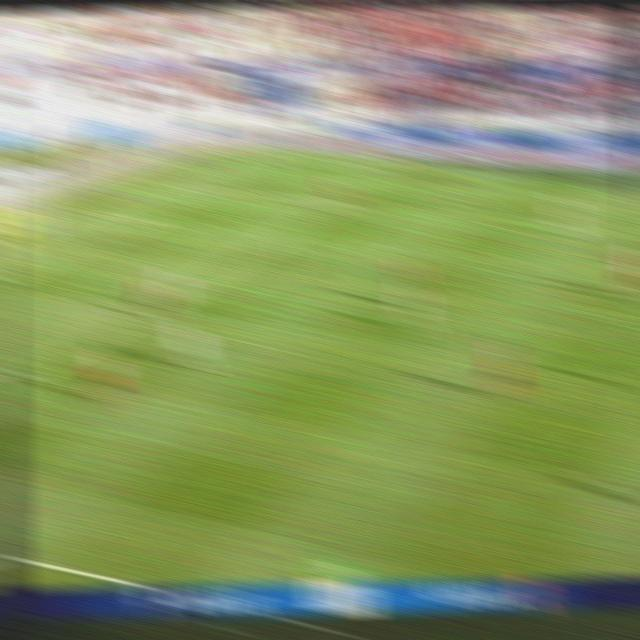bigarea_bottom_inner: (6, 358, 43, 386)
bigarea_top_inner: (325, 192, 353, 209)
bigarea_top_outter: (148, 172, 178, 191)
corner: (221, 145, 253, 163)
smallarea_top_inner: (129, 208, 160, 226)
smallarea_top_outter: (71, 200, 103, 219)
top_arc_area_intersection: (257, 226, 289, 248)
